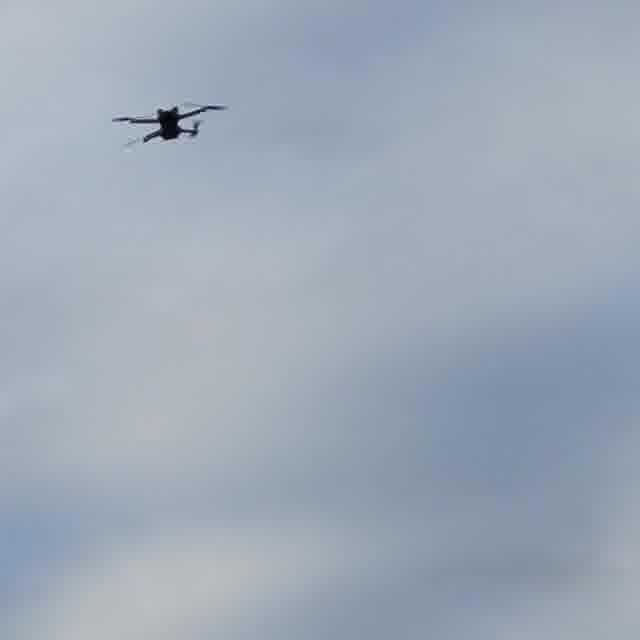Drohne: (113, 104, 227, 145)
